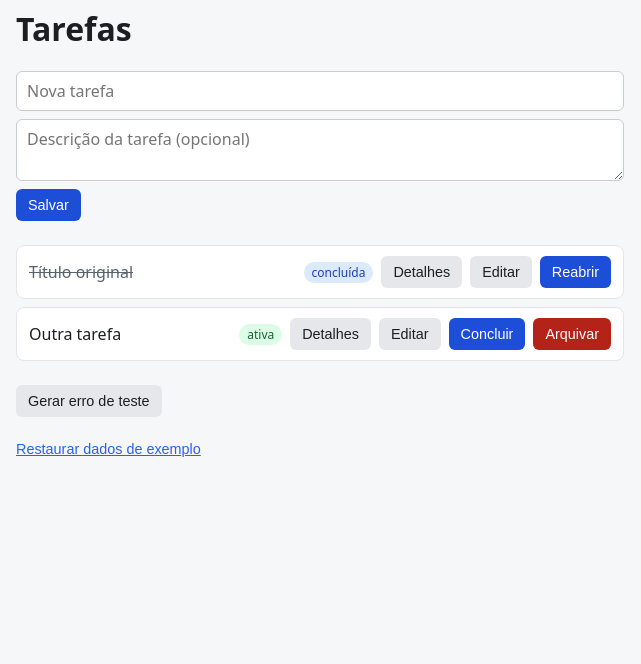
Test case: Page › edita título e descrição, persiste os dados e cancela sem salvar
This screenshot has width=641, height=664.
Later steps or results of the test are not shown.
Click the button "Editar" in the row of "Título original": (501, 272) [470, 256, 532, 288]
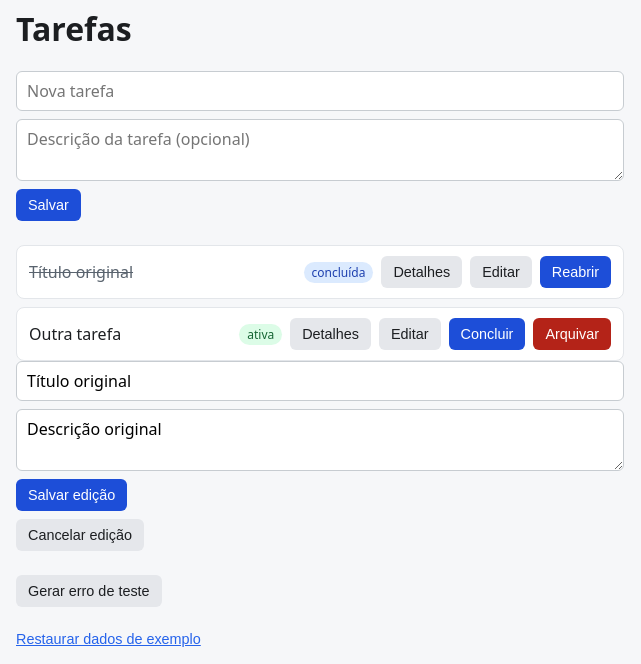
Now the field named "Título editado" holds "Título original"
Now the text box named "Descrição editada" holds "Descrição original", box [16, 409, 624, 471]
Replace the text in the field named "Título editado" with "Título corrigido": (320, 381) [16, 361, 624, 401]
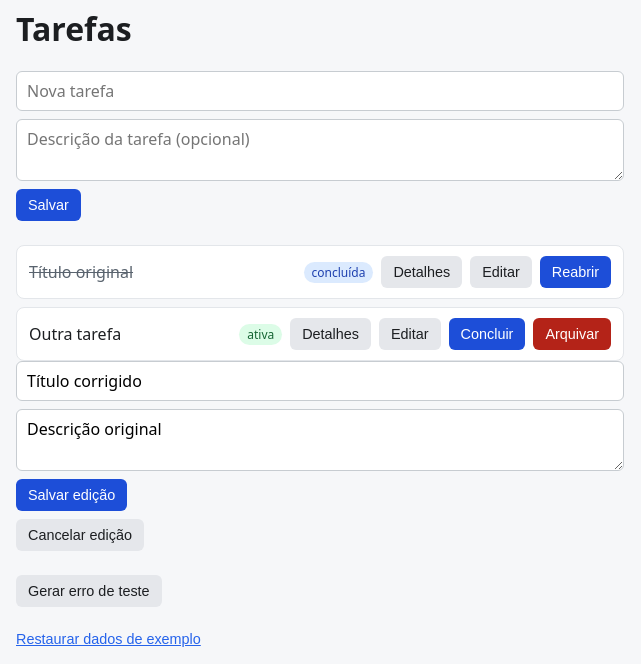
Replace the text in the text box named "Descrição editada" with "Descrição original e complemento": (320, 440) [16, 409, 624, 471]
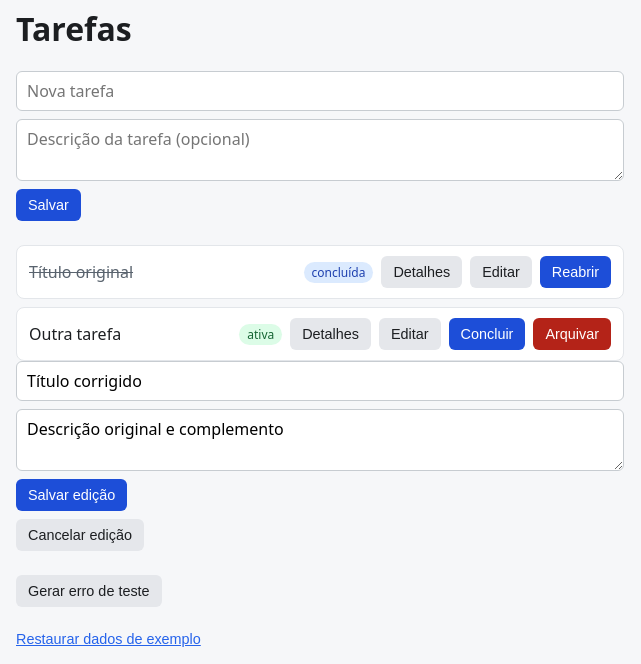
Click the button "Salvar edição": (72, 495) [16, 479, 127, 511]
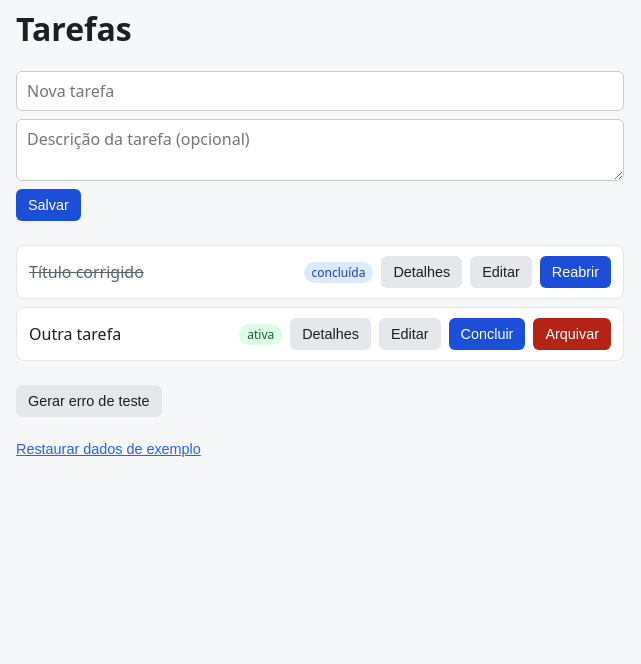
Expected: the text "concluída" is shown, [304, 262, 373, 283]
Now the text "Título corrigido" is shown, box [29, 261, 144, 283]
Click the button "Detalhes" in the row of "Título corrigido": (422, 272) [381, 256, 462, 288]
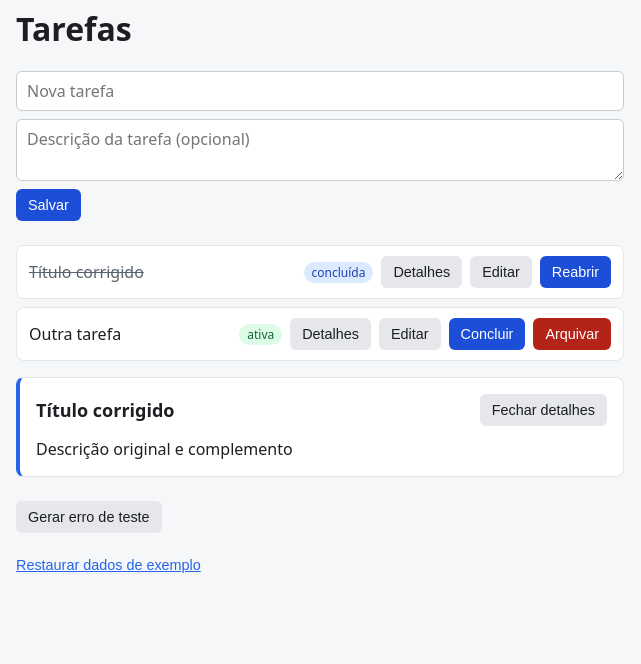
Now the text "Descrição original e complemento" is shown, box [36, 438, 293, 460]
